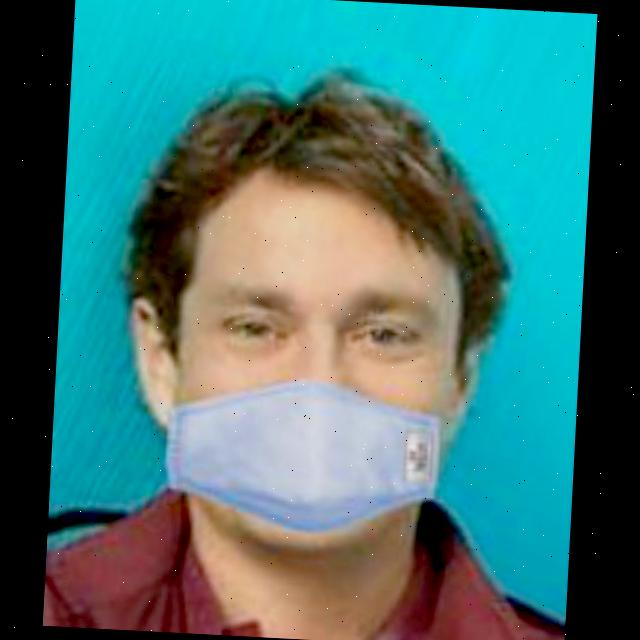suspicion: (130, 141, 487, 524)
